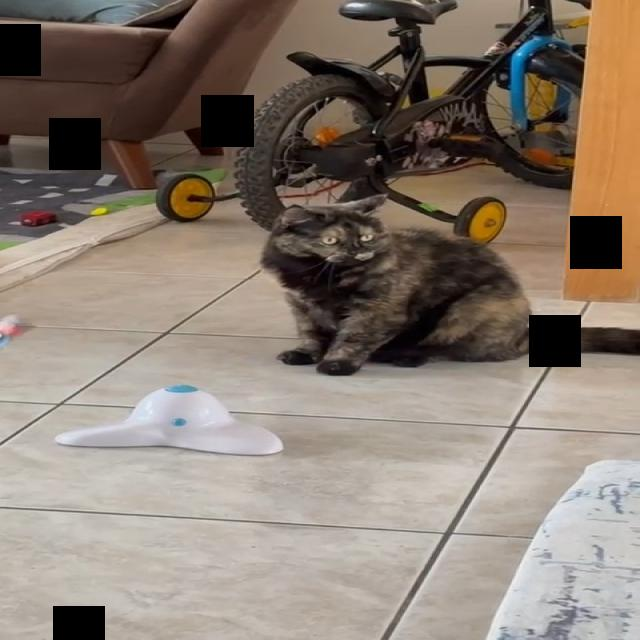authorized: (258, 192, 638, 376)
